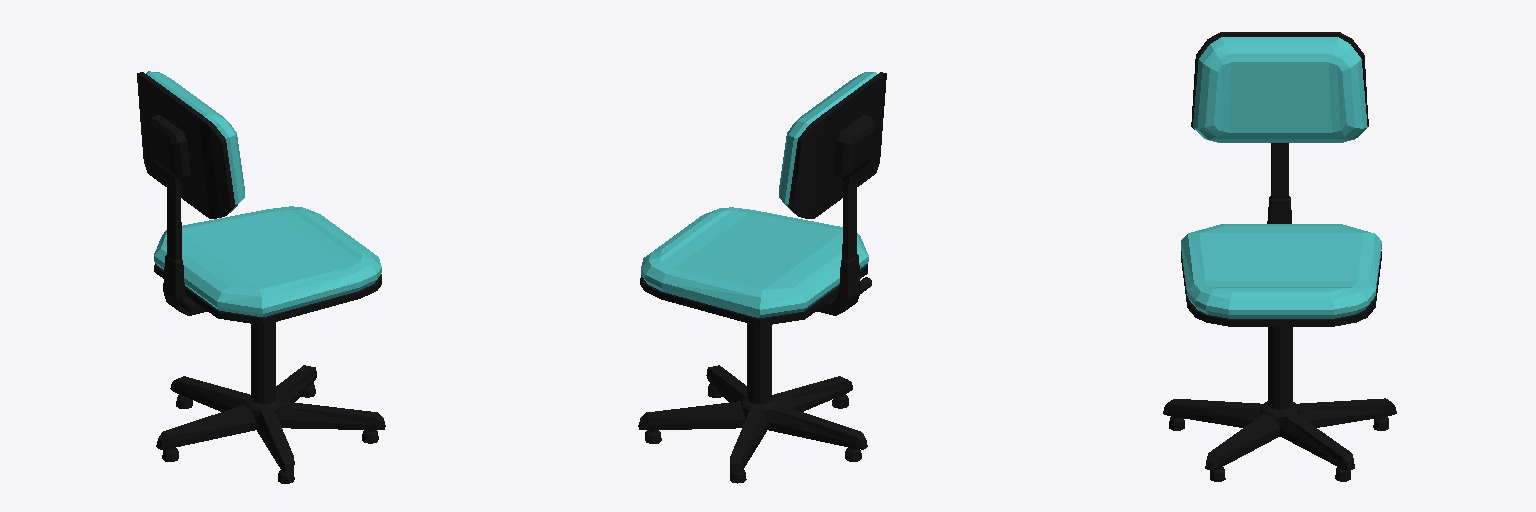
File: chair.obj
3 renders of one model, left to right at view 1: azimuth 30°, elevation 25°; view 2: azimuth 150°, elevation 25°; view 3: azimuth 270°, elevation 25°, orthographic.
Parts seen in each view (by area): view 1: chair; view 2: chair; view 3: chair.
Part boxes in pixels (x1,y1,x2,y2): chair: (137,71,385,483); chair: (638,72,886,483); chair: (1163,32,1396,481).
Size of the model in its own units: 0.5526 by 0.981 by 0.5743.